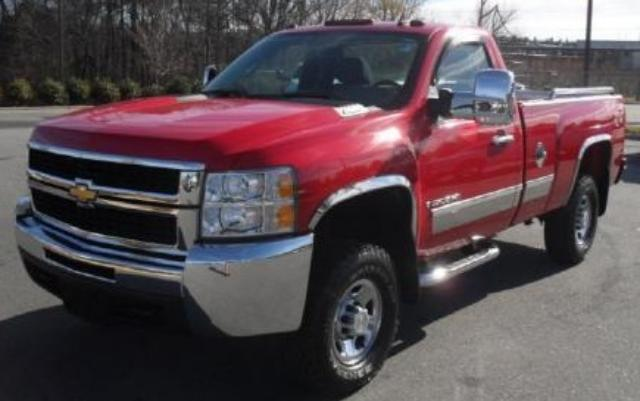pickup-truck: (14, 19, 627, 393)
